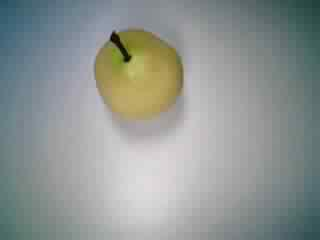pear: (81, 23, 189, 128)
